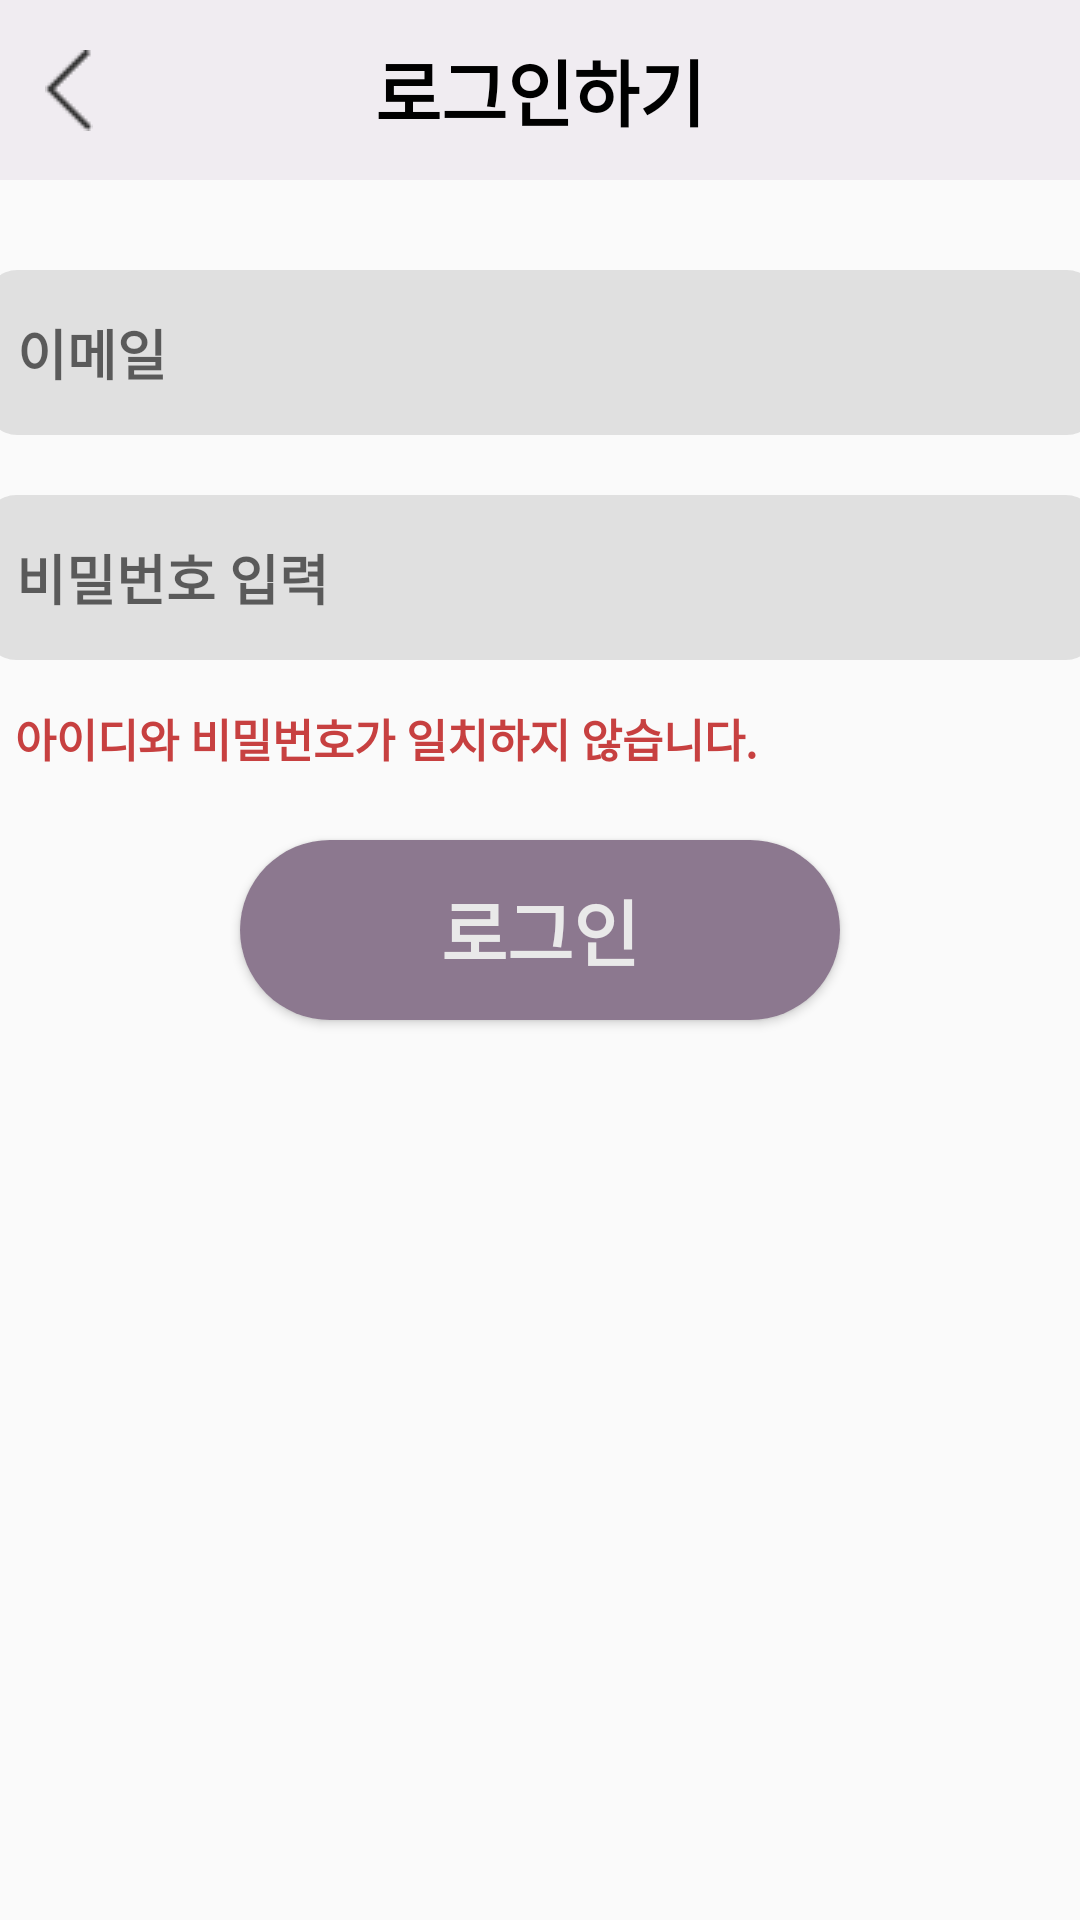

Where icons sit on this 1080*1920 app screen, as box(x1, y1, x2, y2):
back press: box(45, 50, 91, 131)
